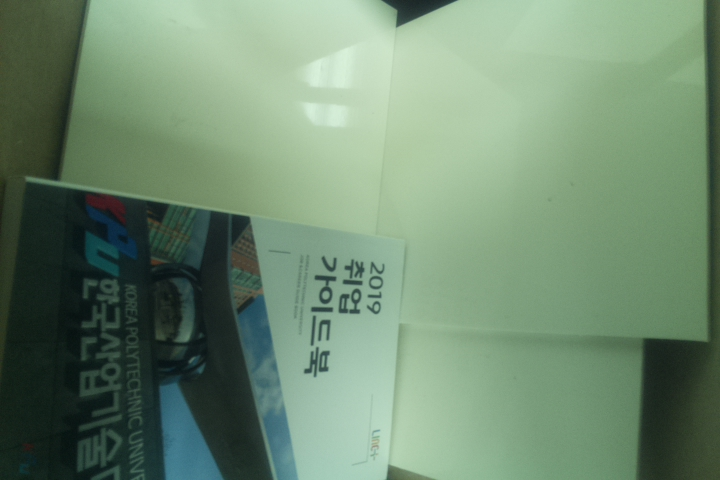book: (1, 170, 406, 480)
